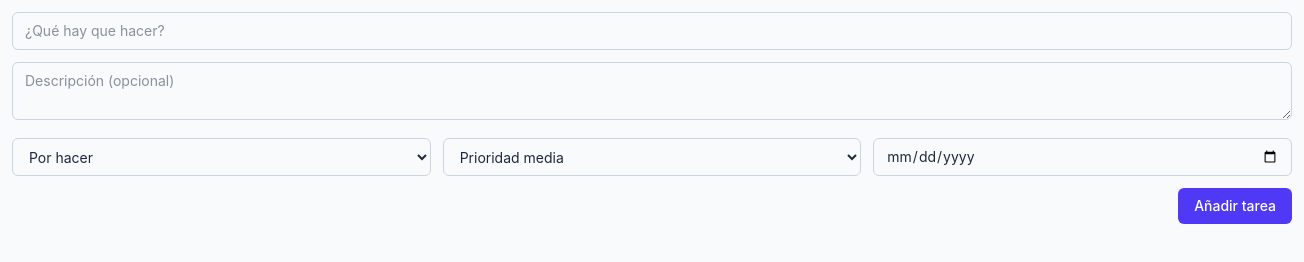
Test: TaskForm › shows an error and does not submit without a title
What coordinates should you click on to do the following:
click the button "Añadir tarea"
I would click on:
 (1235, 206)
Its box is [1178, 188, 1292, 224].
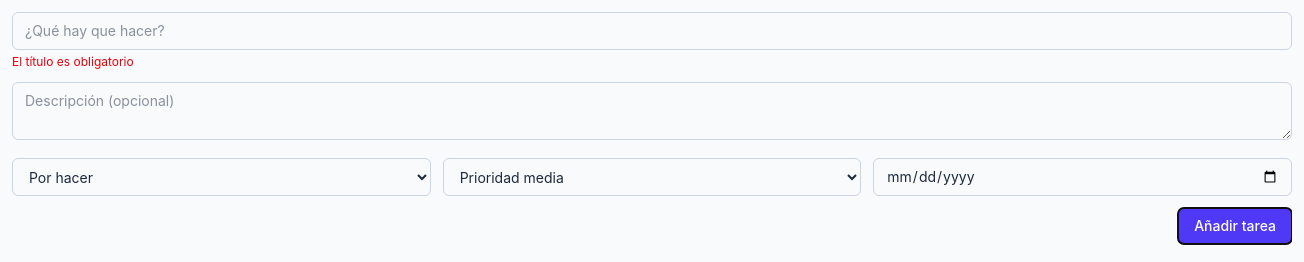
Expected: the text "El título es obligatorio" is shown, [12, 54, 134, 69]
